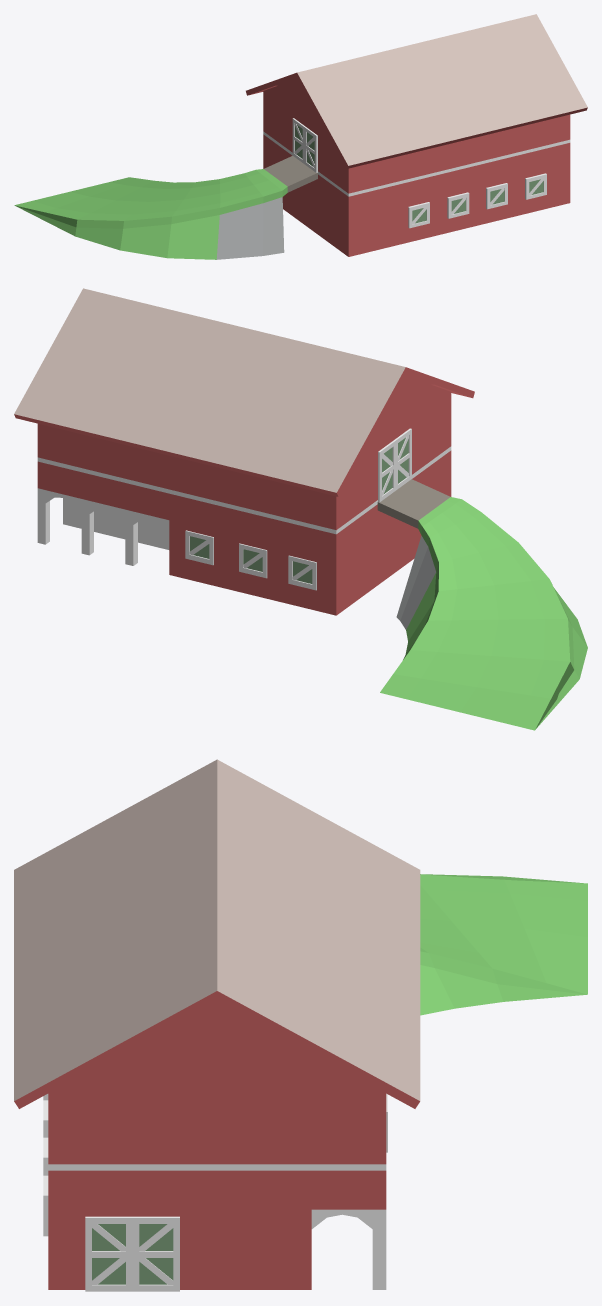
The model's file is Farm__Barn_var_1.fbx.
3 renders of one model, top to bottom at view 1: azimuth 30°, elevation 25°; view 2: azimuth 150°, elevation 25°; view 3: azimuth 270°, elevation 25°, orthographic. The views are drawn at different scales.
Visible parts, largest first — view 1: Barn_1; view 2: Barn_1; view 3: Barn_1.
Part boxes in pixels (bbox=[...]): Barn_1: bbox=[14, 14, 587, 259]; Barn_1: bbox=[14, 288, 587, 730]; Barn_1: bbox=[14, 759, 587, 1291].
Bounding box in the file's own units: 2900 × 1005 × 1698.
